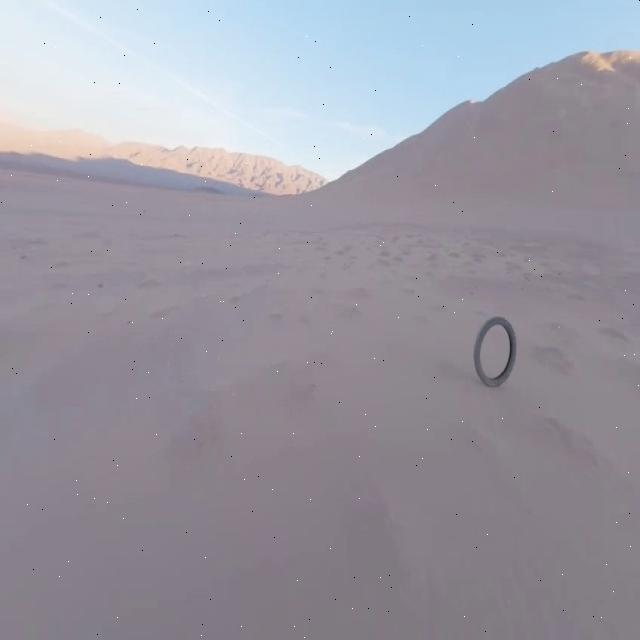Tire: (475, 317, 516, 386)
